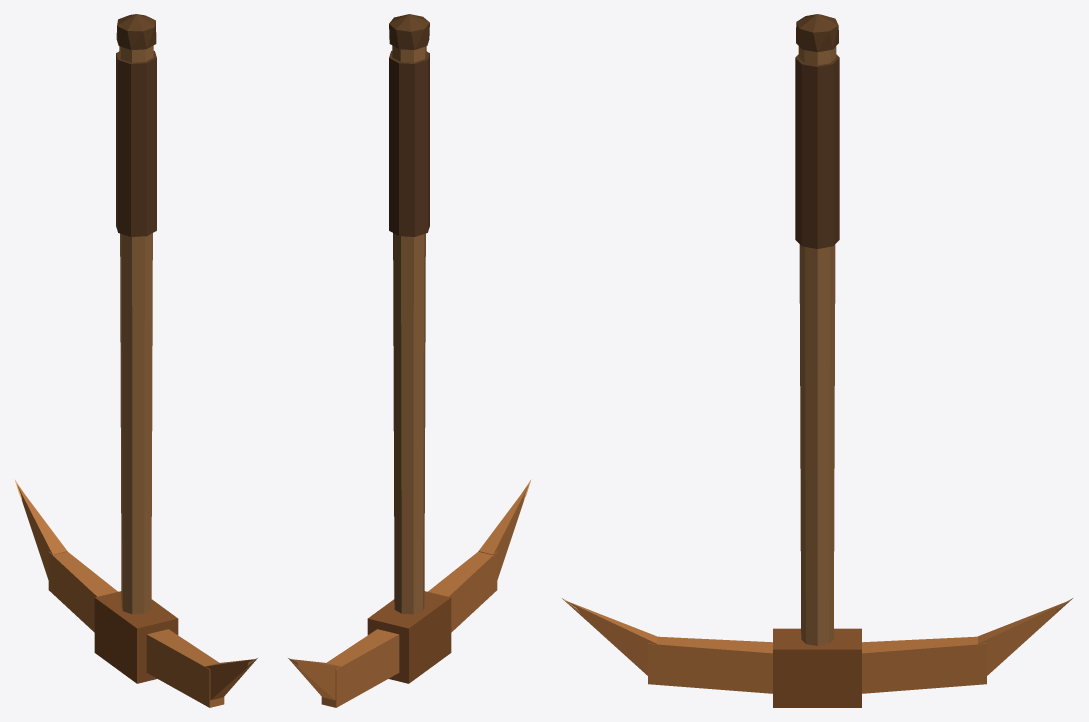
File: held_bronze_pickaxe.glb
3 renders of one model, left to right at view 1: azimuth 30°, elevation 25°; view 2: azimuth 150°, elevation 25°; view 3: azimuth 270°, elevation 25°, orthographic. The views are drawn at different scales.
Parts seen in each view (by area): view 1: held_bronze_pickaxe; view 2: held_bronze_pickaxe; view 3: held_bronze_pickaxe.
Boxes of the visible parts, x1=… form: held_bronze_pickaxe: x1=14, y1=14, x2=257, y2=707; held_bronze_pickaxe: x1=288, y1=14, x2=531, y2=707; held_bronze_pickaxe: x1=562, y1=14, x2=1072, y2=707.
Bounding box in the file's own units: 0.056 × 0.849 × 0.576.
